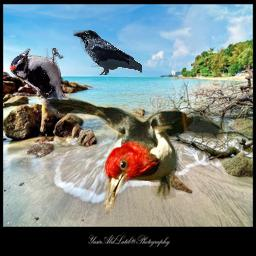Crow: (73, 30, 142, 75)
Woodpecker: (36, 87, 225, 217), (9, 48, 69, 113)
